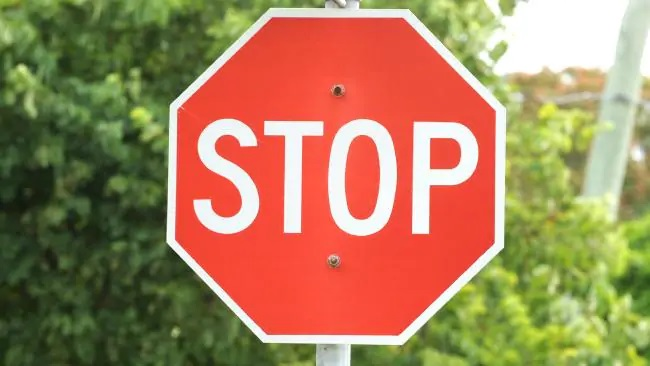stop: (167, 7, 511, 342), (167, 10, 503, 314), (222, 8, 512, 342), (164, 9, 506, 233), (167, 4, 504, 215), (165, 8, 355, 344)
